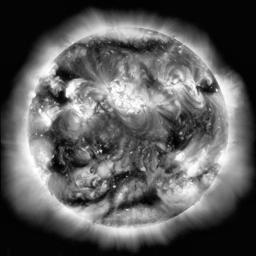solar flares: (112, 82, 151, 115), (164, 78, 204, 107), (172, 150, 211, 178), (67, 102, 95, 122), (34, 109, 58, 131), (36, 139, 52, 167), (65, 81, 79, 98), (48, 78, 60, 94)
sunspots: (102, 37, 158, 56), (53, 140, 81, 169), (163, 121, 185, 148), (121, 192, 161, 206), (87, 138, 114, 155), (197, 79, 218, 97), (73, 194, 110, 204), (108, 171, 138, 180), (59, 68, 78, 82)
